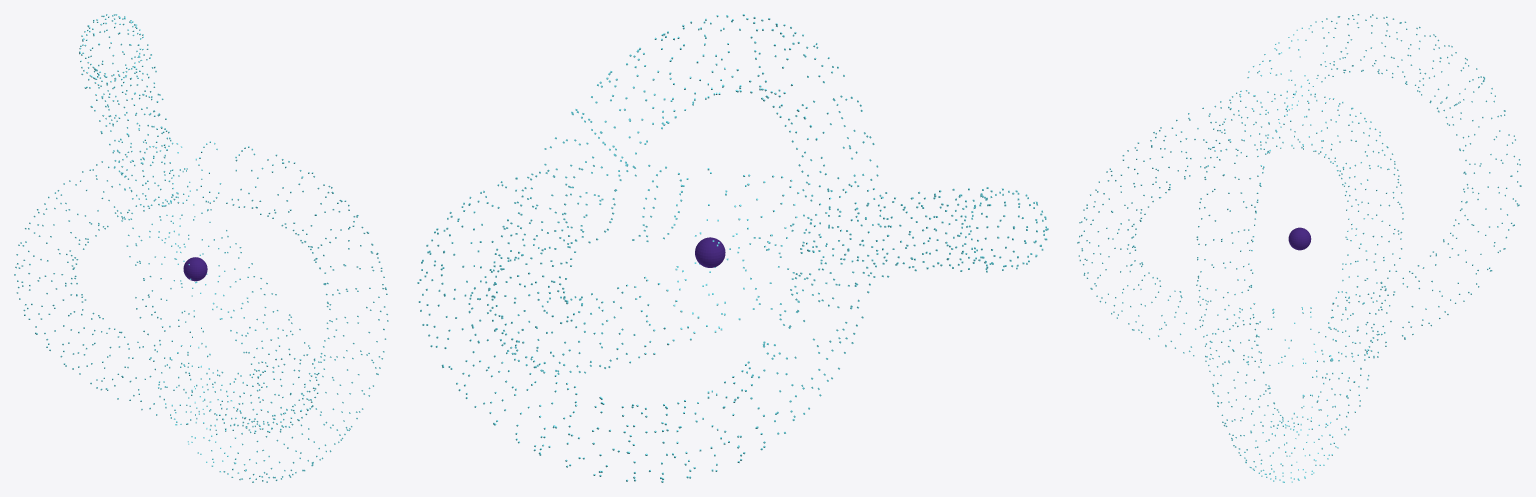
File: placeholder_pointcloud.glb
3 renders of one model, left to right at view 1: azimuth 30°, elevation 25°; view 2: azimuth 150°, elevation 25°; view 3: azimuth 270°, elevation 25°, orthographic. The views are drawn at different scales.
Parts seen in each view (by area): view 1: Sphere; view 2: Sphere; view 3: no part large enough to name.
Boxes of the visible parts, box(x1,y1,x2,y2) form: Sphere: box(183, 257, 207, 281); Sphere: box(695, 237, 725, 267).
Bounding box in the file's own units: 19.62 × 19.53 × 19.58.
